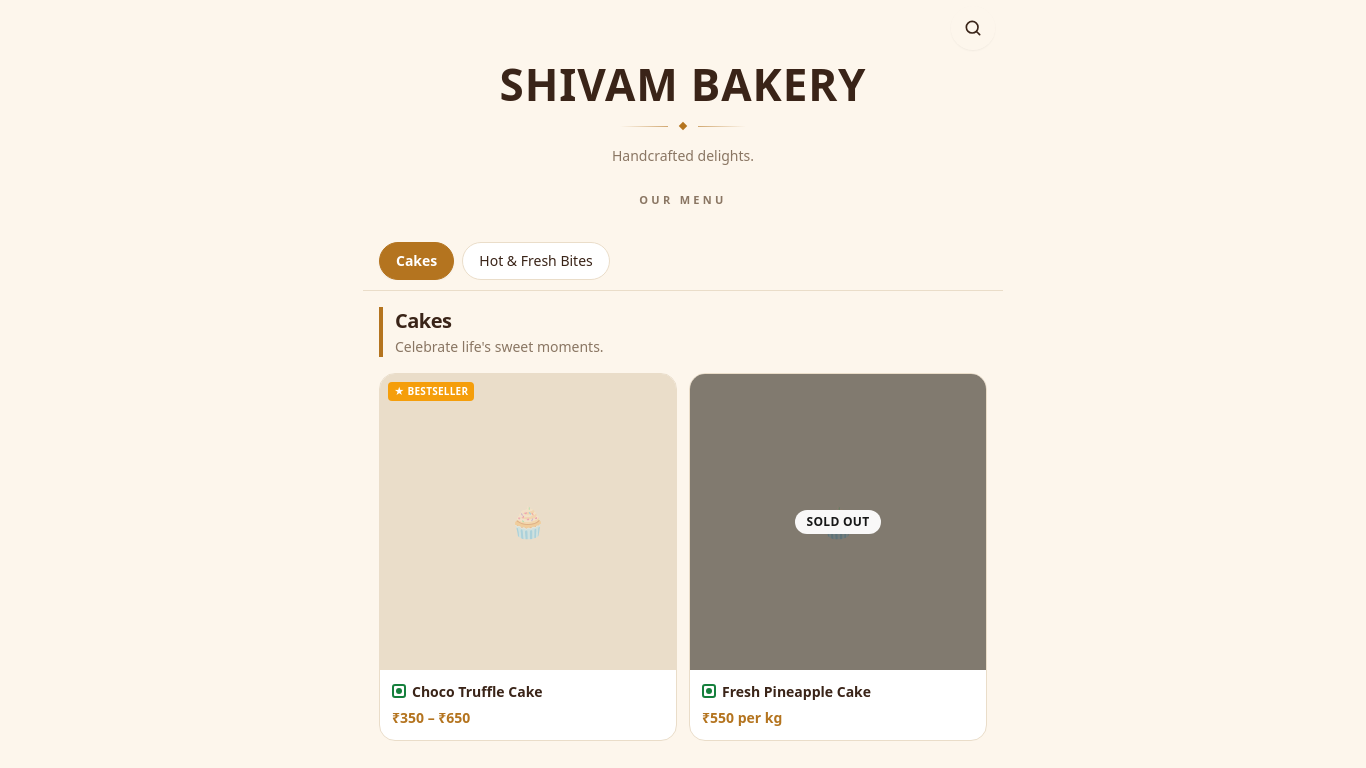
it: the item sheet › opens with every size and price when a card is tapped
Click the heading "Choco Truffle Cake": coordinates (477, 692) left=412, top=682, right=543, bottom=702
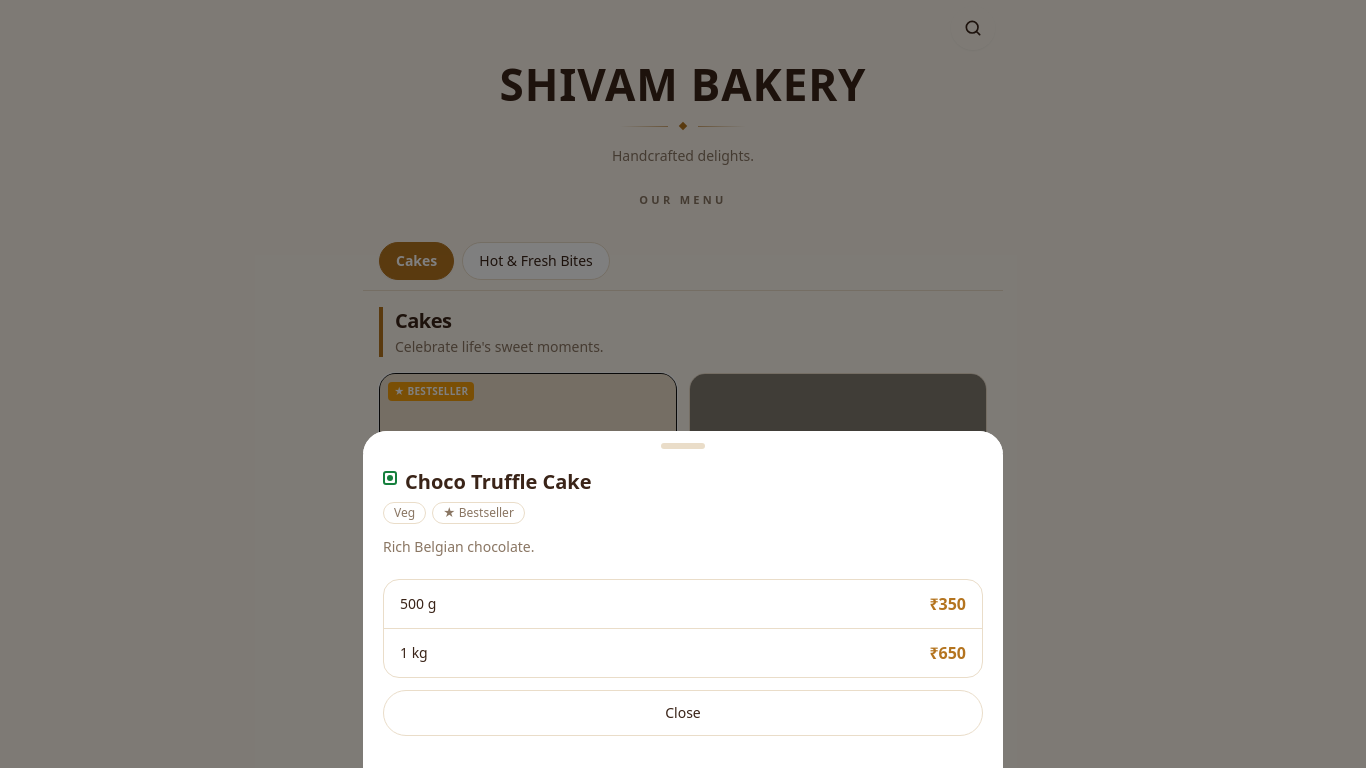
Expected: the text "500 g" is shown, left=400, top=594, right=436, bottom=614
Expected: the text "₹350" is shown, left=929, top=592, right=966, bottom=616
Expected: the text "1 kg" is shown, left=400, top=643, right=428, bottom=663
